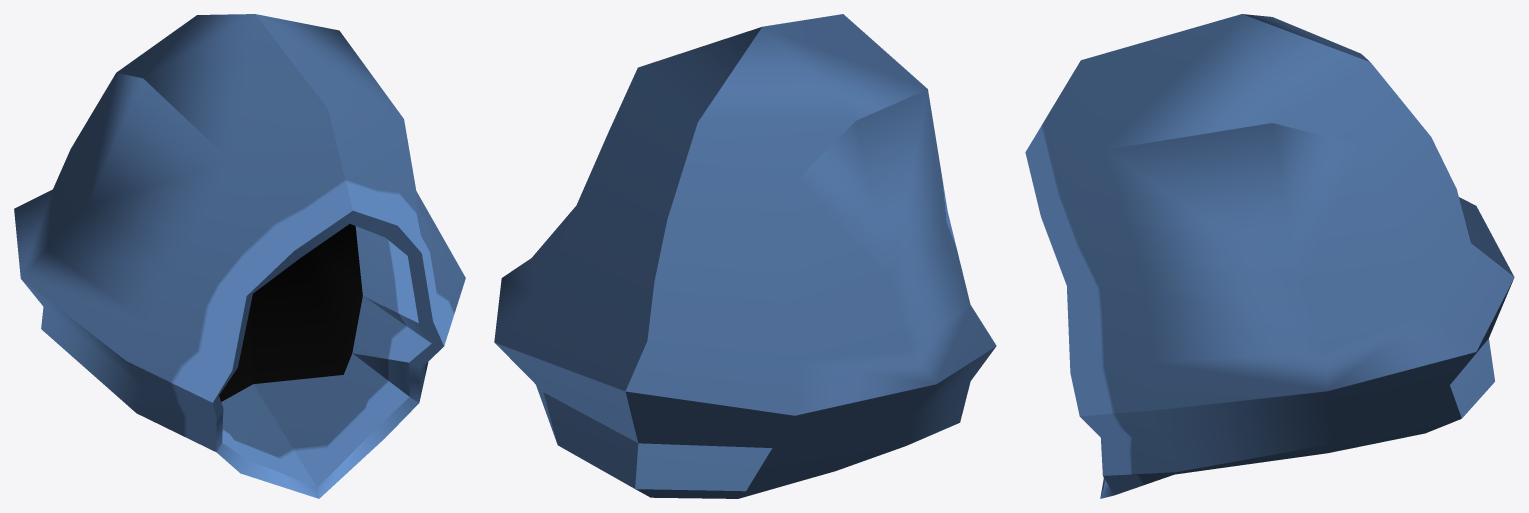
File: Hood.glb
3 views of the same model, side by side, from view 1: azimuth 30°, elevation 25°; view 2: azimuth 150°, elevation 25°; view 3: azimuth 270°, elevation 25° (orthographic). The views are drawn at different scales.
Visible parts, largest first — view 1: Hood; view 2: Hood; view 3: Hood.
Boxes of the visible parts, x1,y1,x2,y2 form: Hood: [14, 14, 465, 498]; Hood: [494, 14, 996, 498]; Hood: [1025, 14, 1514, 498].
Bounding box in the file's own units: 0.4441 × 0.4751 × 0.4344.
Materials: 1 (1 with a texture image).
